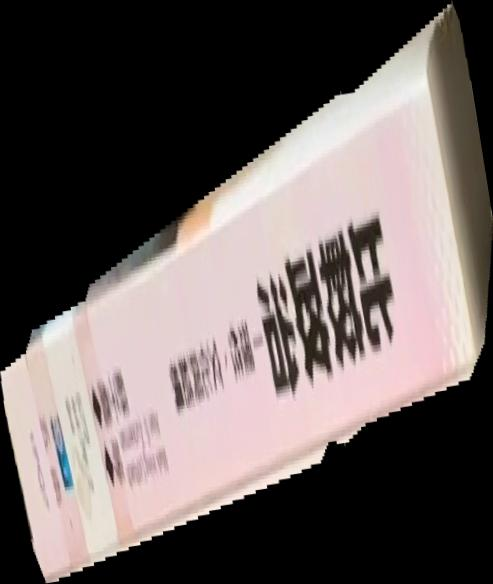flat: (1, 1, 493, 584)
